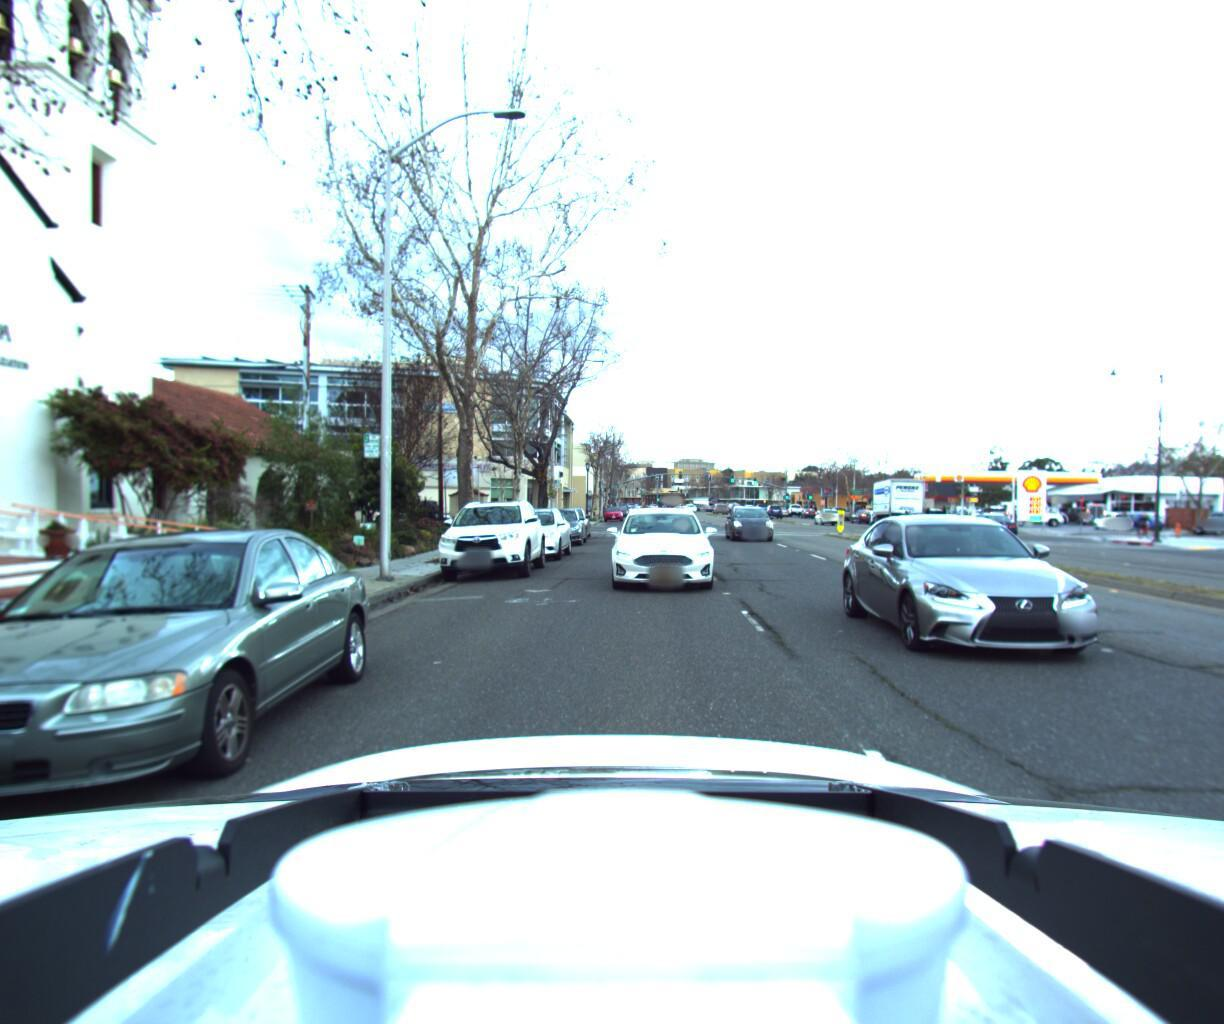bicycle: (1136, 509, 1168, 538)
car: (0, 518, 386, 866), (841, 513, 1224, 711), (599, 503, 724, 597), (427, 494, 548, 583), (491, 505, 576, 562), (719, 502, 782, 541), (531, 504, 588, 547), (952, 511, 1019, 540), (545, 505, 593, 540), (1005, 509, 1070, 532), (1087, 508, 1138, 529), (1183, 513, 1224, 535), (810, 504, 843, 522), (602, 504, 624, 521)
other_vehicle: (1078, 498, 1112, 523)
truck: (859, 474, 933, 528)
